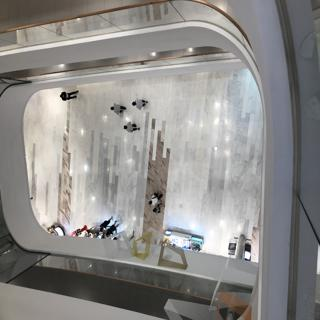person: (145, 191, 168, 215), (130, 94, 154, 112), (53, 91, 90, 102), (122, 120, 141, 138), (107, 99, 127, 116)
